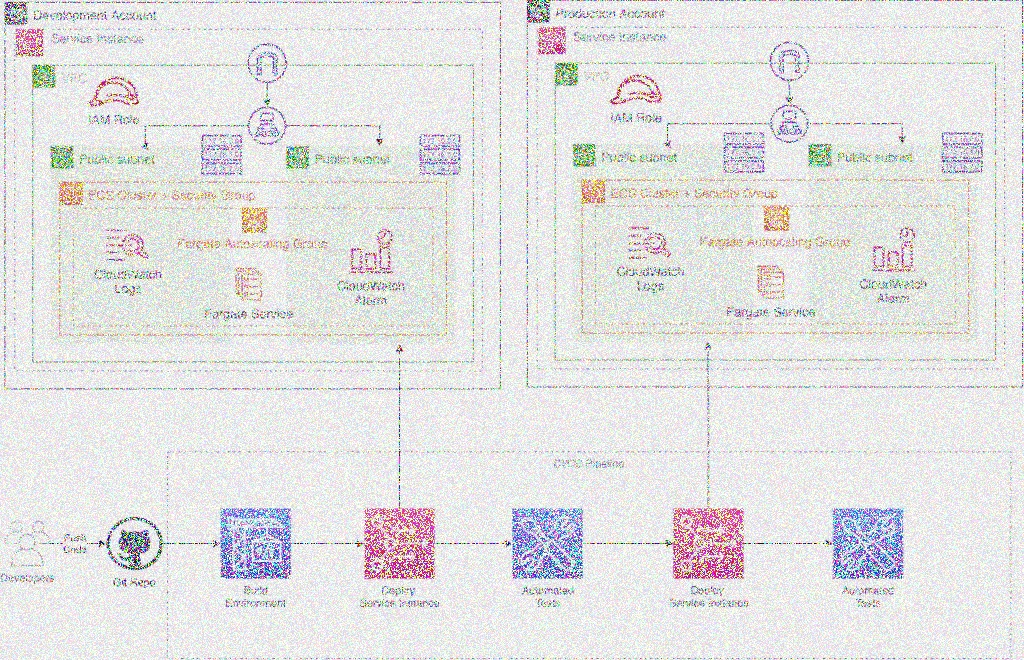ALB: (766, 102, 812, 143), (247, 104, 288, 145)
Automated Tests: (510, 506, 587, 581), (832, 506, 905, 582)
Build Environment: (219, 507, 290, 579)
Cloud Watch: (99, 222, 159, 268), (620, 217, 677, 264)
CloudWatch Alarm: (865, 220, 923, 276), (343, 227, 398, 278)
DSI: (672, 507, 745, 580), (365, 508, 436, 578)
EC2: (230, 262, 267, 307), (754, 258, 790, 304)
Elastic Container Service: (57, 179, 85, 207), (580, 177, 606, 206)
Fargate: (762, 203, 793, 232), (239, 207, 271, 234)
Github: (102, 511, 168, 572)
IAM: (609, 67, 665, 109), (88, 73, 143, 109)
Internet Gateway: (766, 35, 815, 84), (245, 37, 289, 84)
Public Subnet: (282, 143, 312, 170), (49, 143, 74, 172), (572, 143, 598, 169), (809, 140, 833, 167)
Users: (0, 515, 54, 570)
aws: (1, 0, 30, 25), (525, 0, 554, 24)
